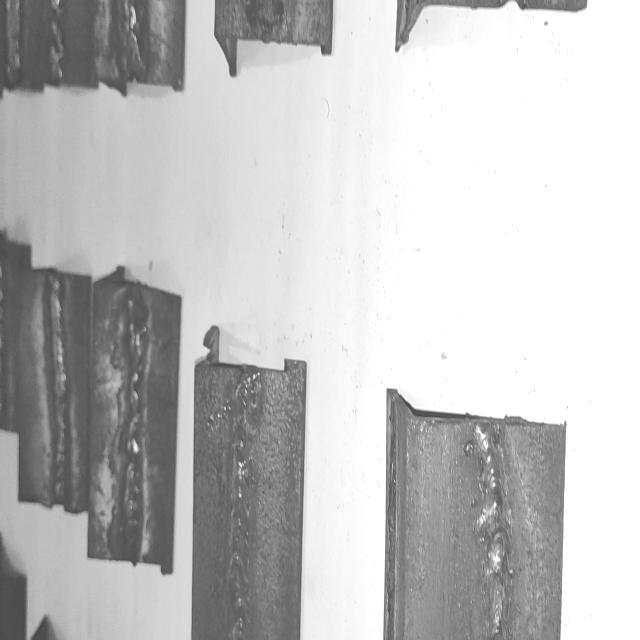Welding Line: (475, 426, 515, 640), (225, 371, 254, 640), (123, 313, 147, 557), (47, 286, 69, 500)
Workpiece: (382, 374, 569, 640), (190, 323, 308, 640), (90, 266, 185, 580), (14, 266, 98, 509)
